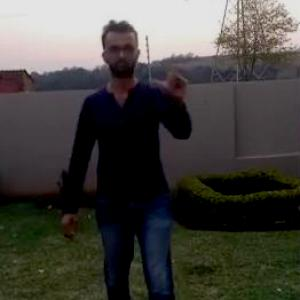land_hand: (140, 48, 186, 101)
